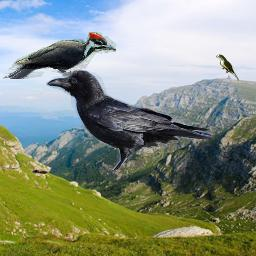Crow: (46, 70, 215, 175)
Cuckoo: (216, 54, 239, 81)
Woodpecker: (3, 32, 116, 79)
